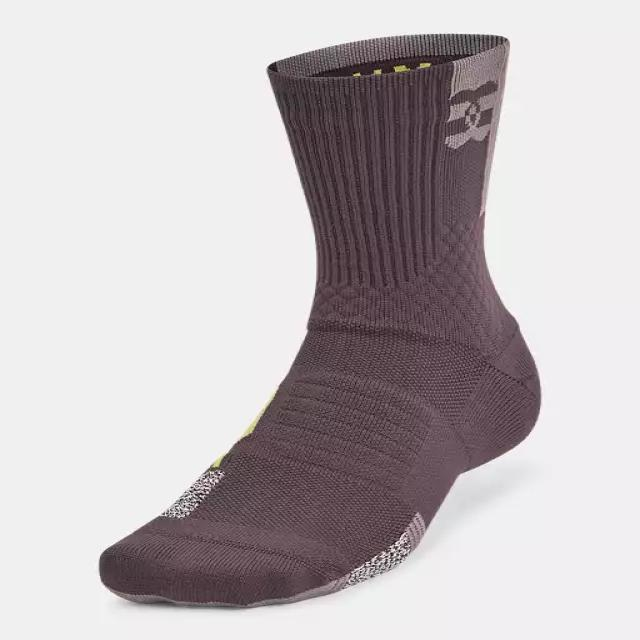sock: (98, 32, 542, 608)
